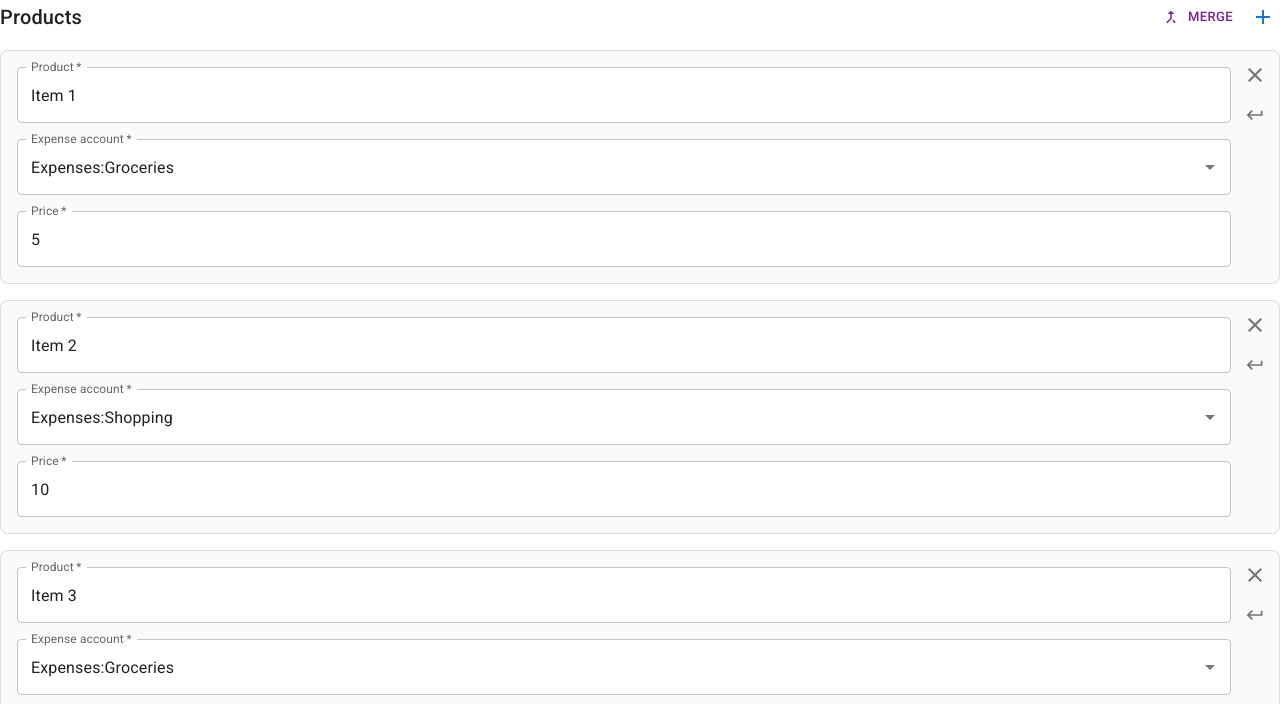
ReceiptItemList - Price Assignment Feature › Price Assignment Modal › should close modal when Cancel is clicked
Click the 1st button titled "Assign price difference to this item". click: coordinates (1255, 115)
box: 1235,95 -> 1275,135
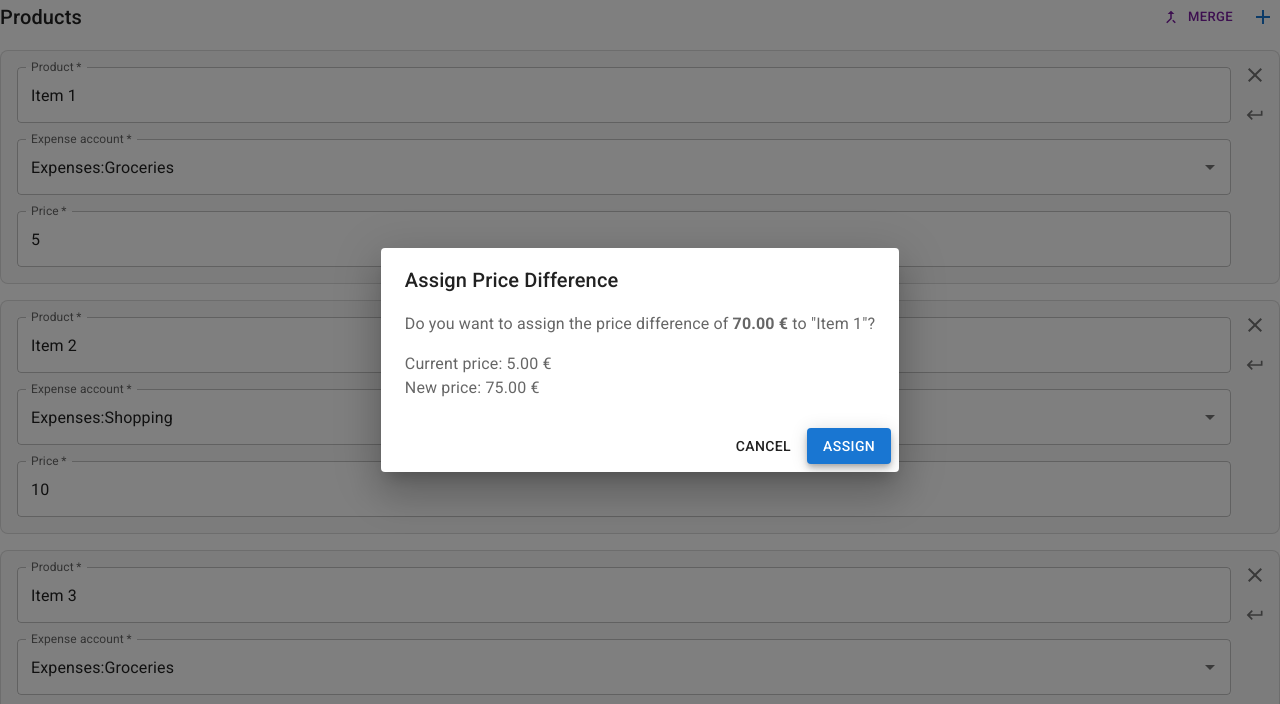
Now the heading "Assign Price Difference" is shown, box 405,268 -> 618,292
Click Cancel
Click the button "Cancel". click: coordinates (763, 446)
box: 728,428 -> 799,464
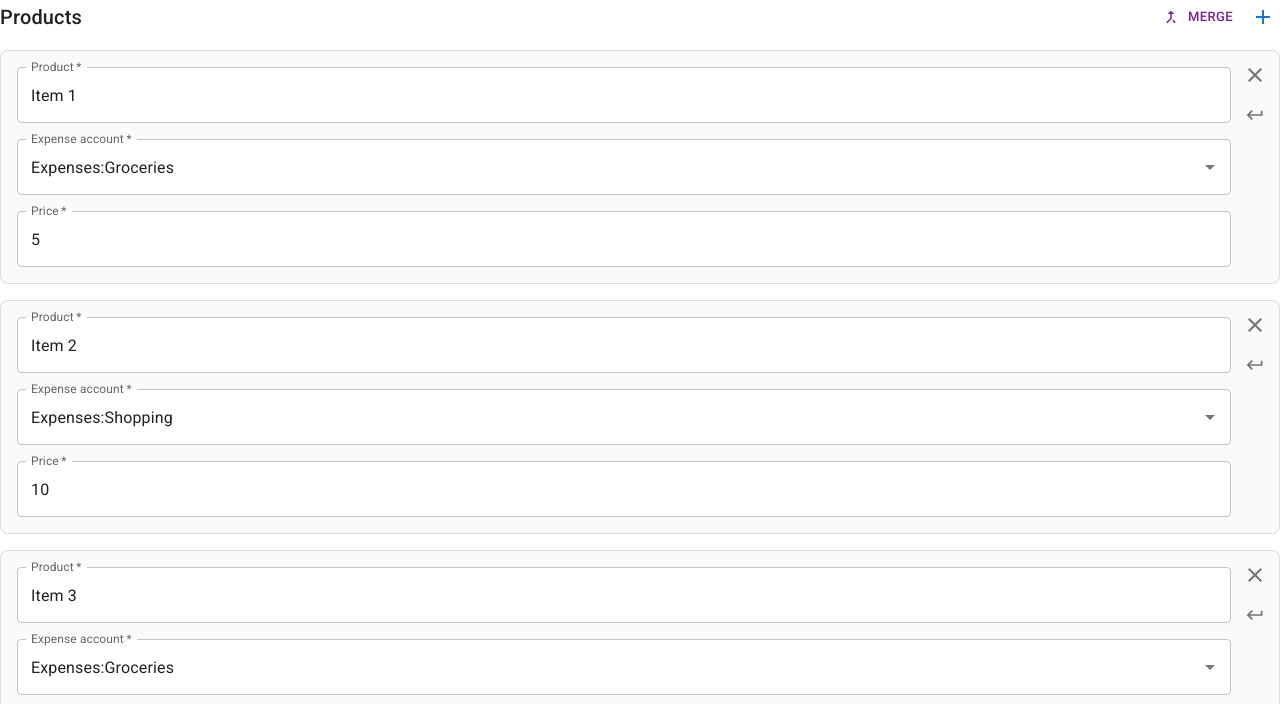
Now the heading "Assign Price Difference" is gone
